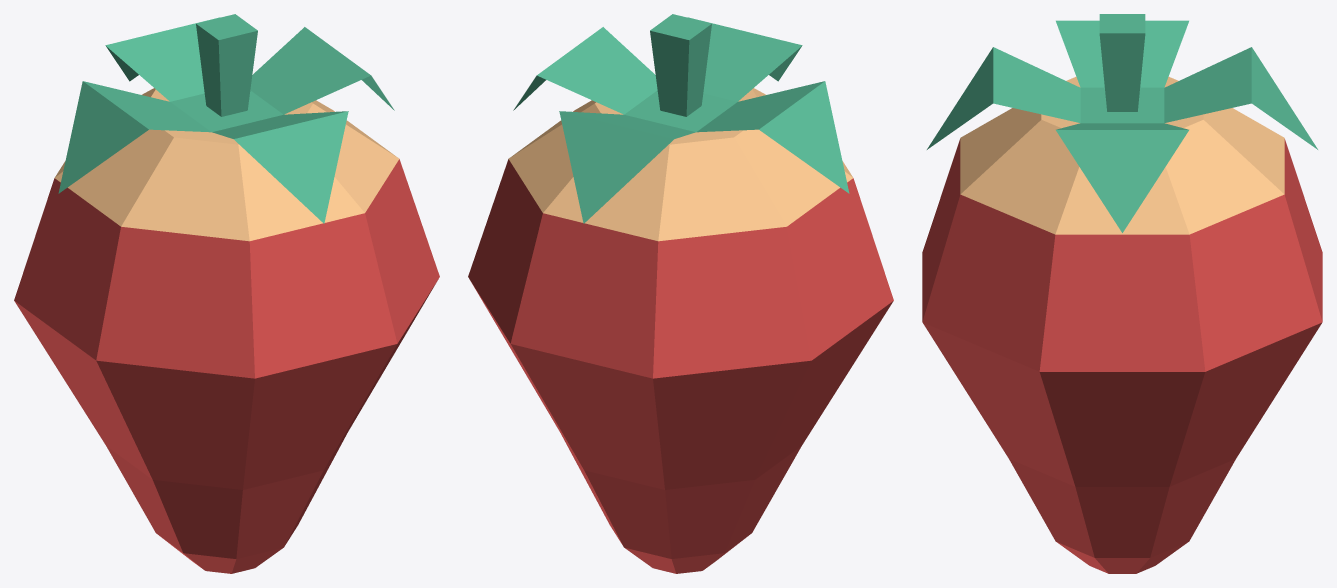
Rendered from strawberry.fbx.
3 renders of one model, left to right at view 1: azimuth 30°, elevation 25°; view 2: azimuth 150°, elevation 25°; view 3: azimuth 270°, elevation 25°, orthographic.
Parts seen in each view (by area): view 1: strawberry; view 2: strawberry; view 3: strawberry.
Part boxes in pixels (x1,y1,x2,y2): strawberry: (14,14,439,573); strawberry: (468,14,893,573); strawberry: (922,14,1322,573).
Bounding box in the file's own units: 1.2 × 1.77 × 1.2.
